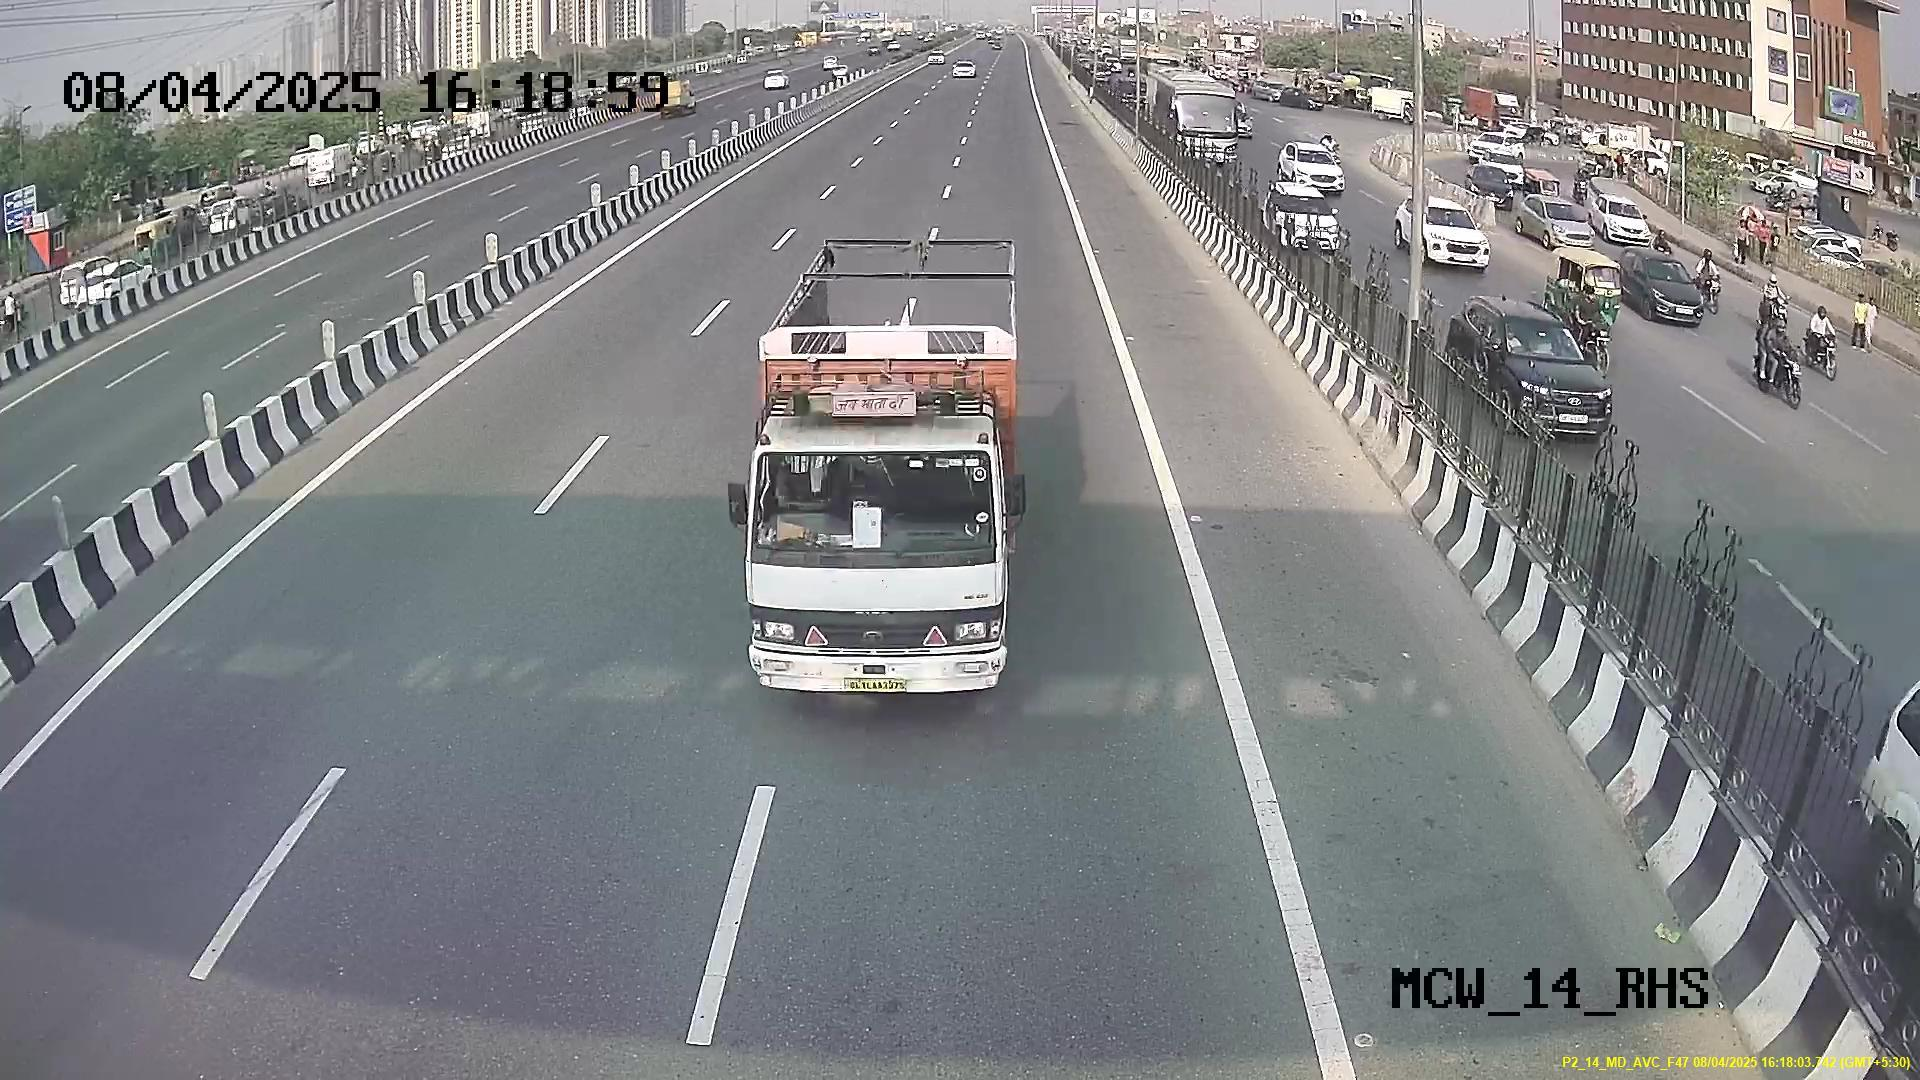lcv: (740, 425, 1015, 692)
